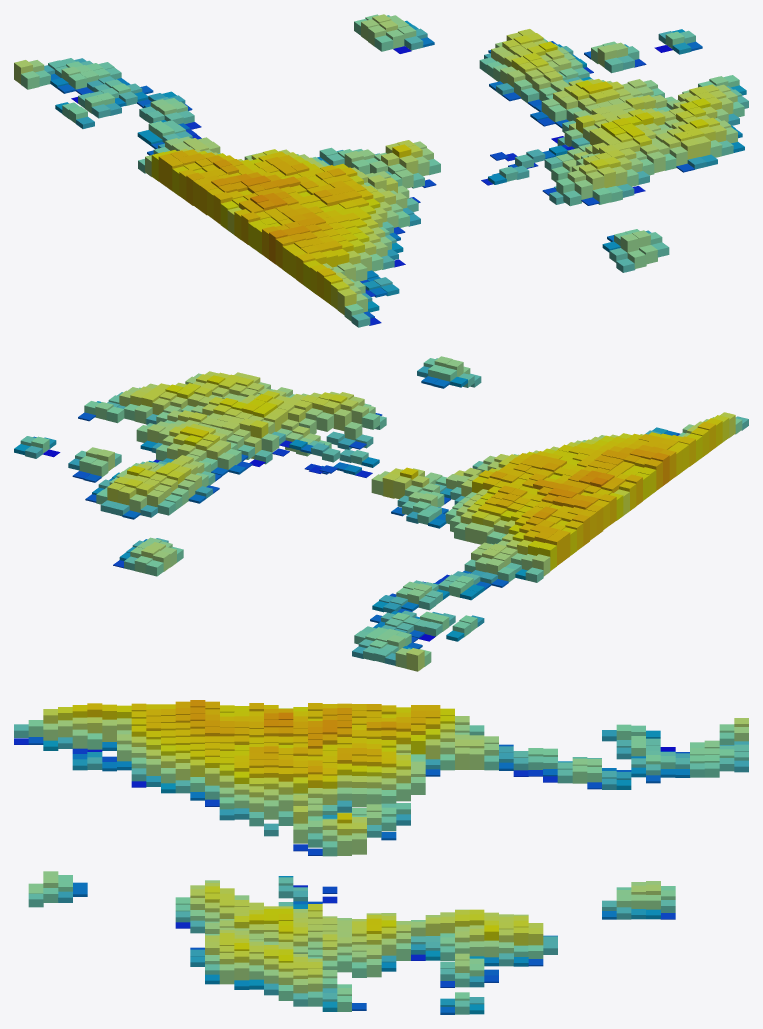
File: population.glb
3 renders of one model, top to bottom at view 1: azimuth 30°, elevation 25°; view 2: azimuth 150°, elevation 25°; view 3: azimuth 270°, elevation 25°, orthographic. The views are drawn at different scales.
Visible parts, largest first — view 1: population; view 2: population; view 3: population.
Part boxes in pixels (x1,y1,x2,y2): population: (14, 14, 748, 327); population: (14, 356, 748, 671); population: (14, 700, 748, 1014).
Bounding box in the file's own units: 4535 × 393 × 4972.
